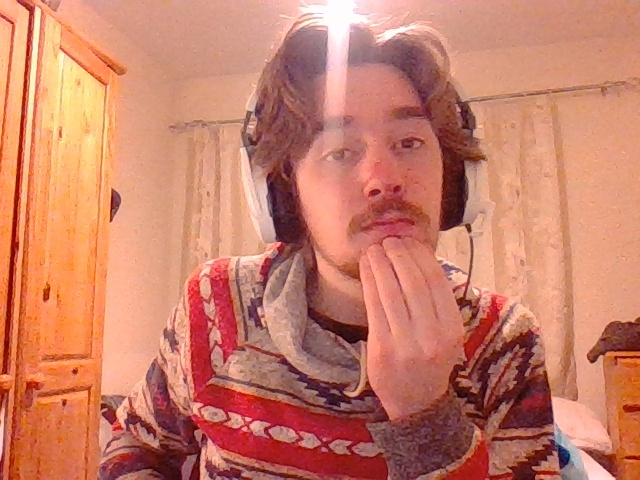thanks: (348, 233, 461, 406)
